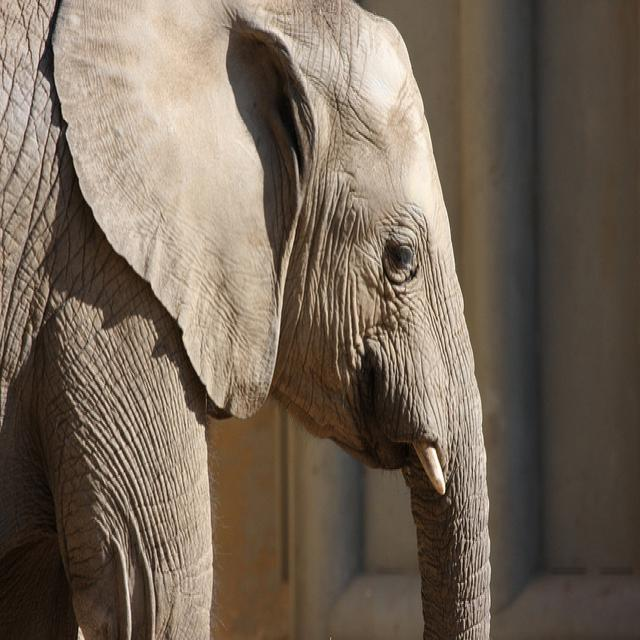Elephant: (0, 0, 492, 639)
